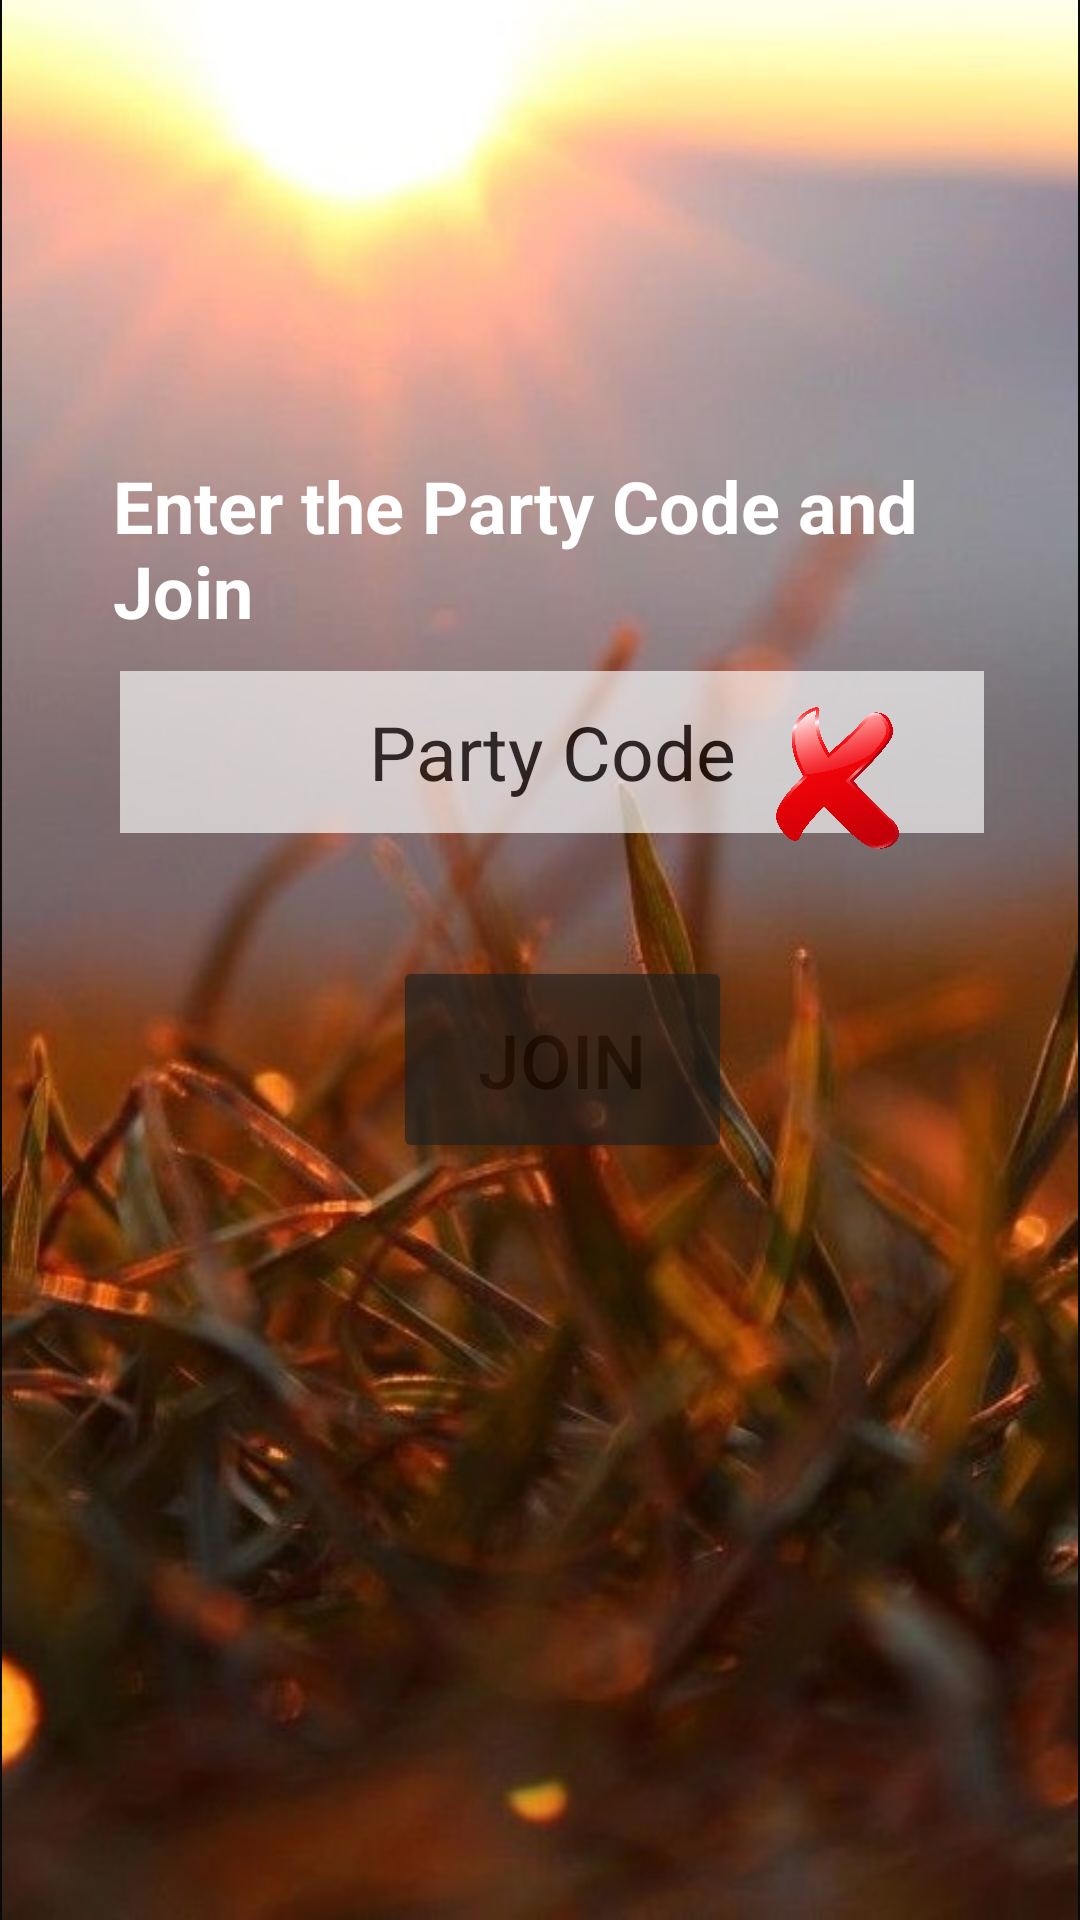

Screen size 1080*1920. Icon name, then its center in pixels as (x=x, y=y):
cross: (x=837, y=778)
